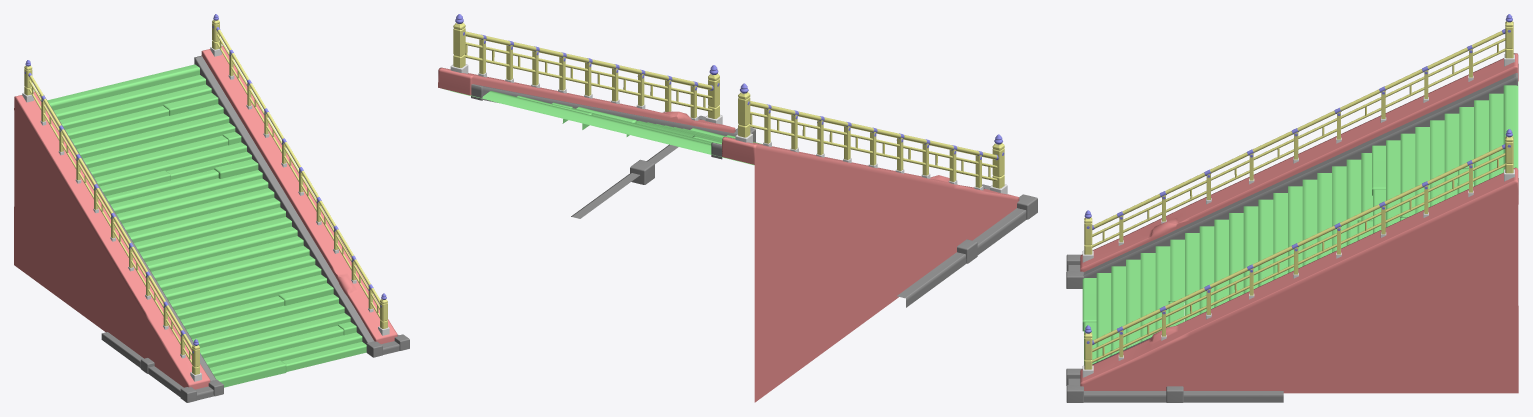
File: SM_ENV_KNVLLG03_AreaD_Hokage_Stairs.gltf
3 renders of one model, left to right at view 1: azimuth 30°, elevation 25°; view 2: azimuth 150°, elevation 25°; view 3: azimuth 270°, elevation 25°, orthographic. The views are drawn at different scales.
Parts seen in each view (by area): view 1: SM_ENV_KNVLLG03_AreaD_Hokage_Stairs; view 2: SM_ENV_KNVLLG03_AreaD_Hokage_Stairs; view 3: SM_ENV_KNVLLG03_AreaD_Hokage_Stairs.
Boxes of the visible parts, <box> form: SM_ENV_KNVLLG03_AreaD_Hokage_Stairs: <box>14,14,409,402</box>; SM_ENV_KNVLLG03_AreaD_Hokage_Stairs: <box>438,14,1037,402</box>; SM_ENV_KNVLLG03_AreaD_Hokage_Stairs: <box>1066,14,1518,402</box>.
Bounding box in the file's own units: 8.79 × 7.9 × 12.3.
